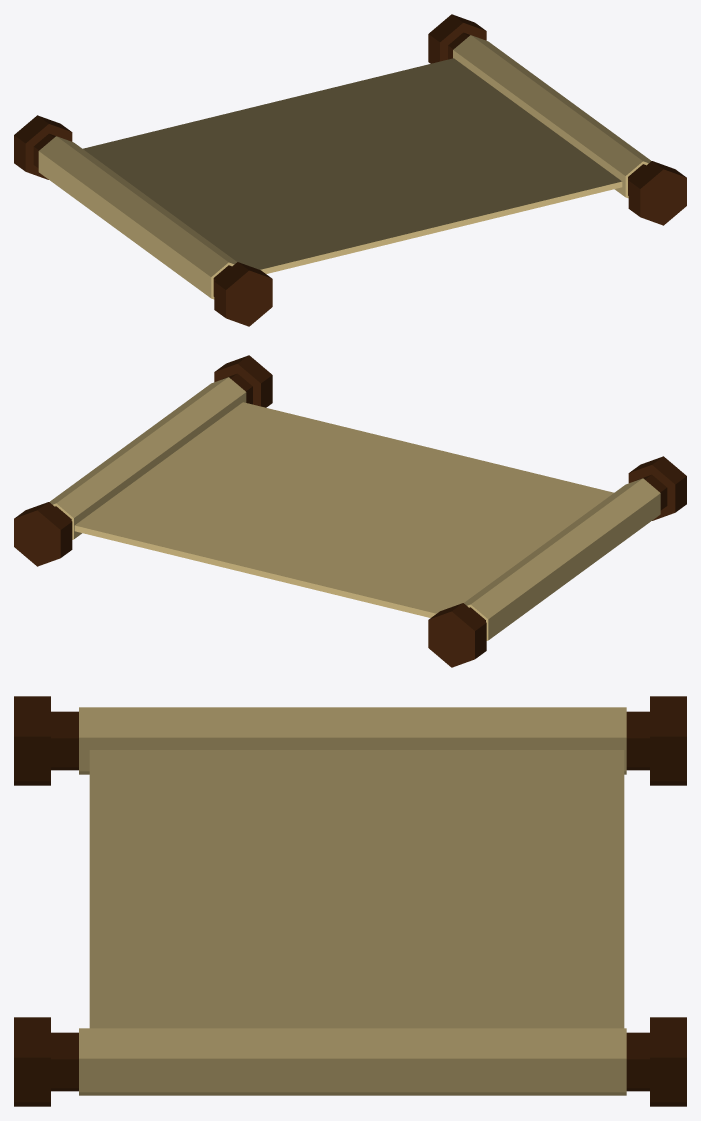
The model's file is Scroll 3.fbx.
3 views of the same model, one above another, from view 1: azimuth 30°, elevation 25°; view 2: azimuth 150°, elevation 25°; view 3: azimuth 270°, elevation 25° (orthographic). The views are drawn at different scales.
Visible parts, largest first — view 1: Node 0; view 2: Node 0; view 3: Node 0.
Part boxes in pixels (bbox=[...]): Node 0: bbox=[14, 14, 686, 326]; Node 0: bbox=[14, 355, 686, 667]; Node 0: bbox=[14, 696, 686, 1106].
Bounding box in the file's own units: 0.4648 × 0.0682 × 0.5837.
